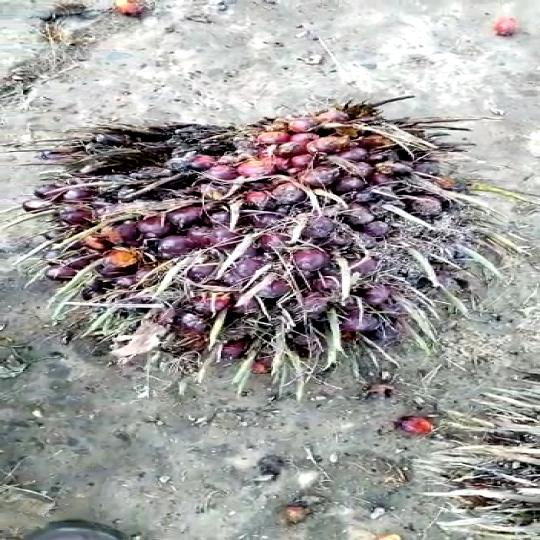masak: (26, 96, 485, 381)
